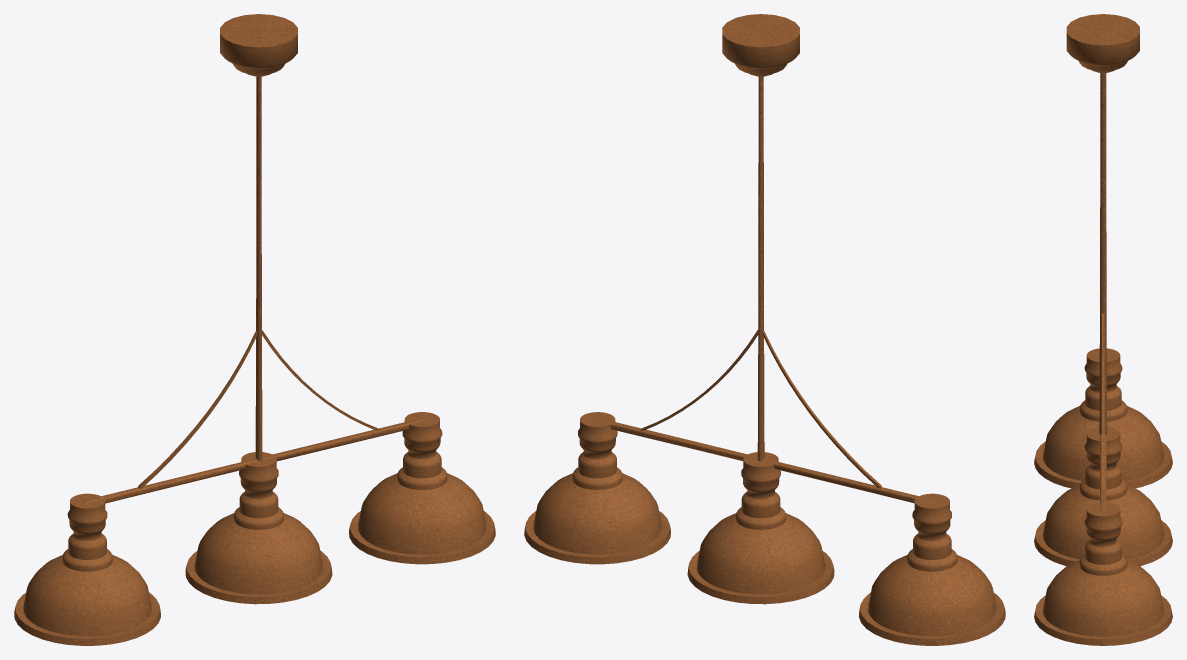
The model's file is Light.FBX.
The picture shows the model from 3 angles, left to right: view 1: azimuth 30°, elevation 25°; view 2: azimuth 150°, elevation 25°; view 3: azimuth 270°, elevation 25°; orthographic projection. The views are drawn at different scales.
Visible parts, largest first — view 1: Lights, Light_Base; view 2: Lights, Light_Base; view 3: Lights, Light_Base.
Boxes of the visible parts, box(x1,y1,x2,y2) form: Lights: box(14, 412, 495, 645); Light_Base: box(82, 14, 426, 503); Lights: box(524, 412, 1005, 645); Light_Base: box(593, 14, 937, 503); Lights: box(1034, 348, 1172, 645); Light_Base: box(1066, 14, 1139, 510).
Size of the model in its own units: 119 by 134 by 32.87.
1 material, 1 textured.
